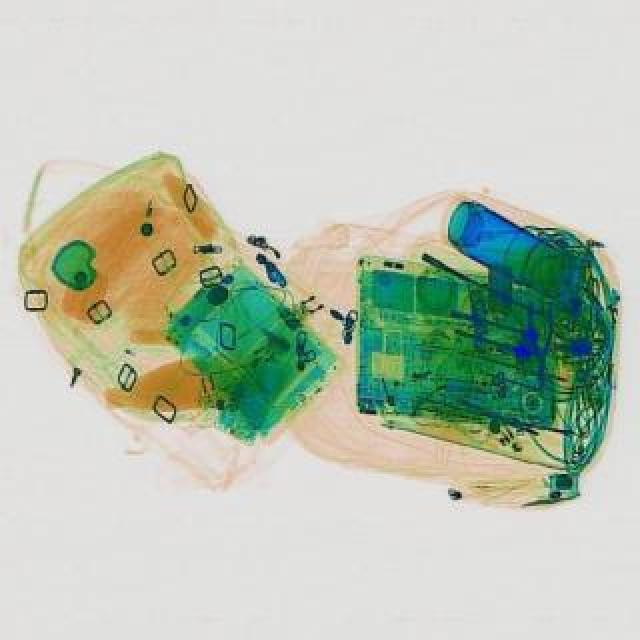wrench: (526, 302, 554, 396)
